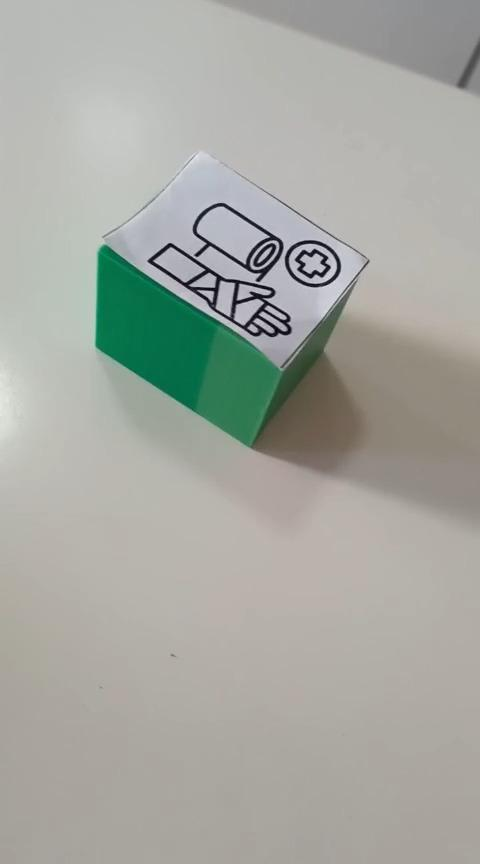Bandages: (93, 149, 370, 448)
